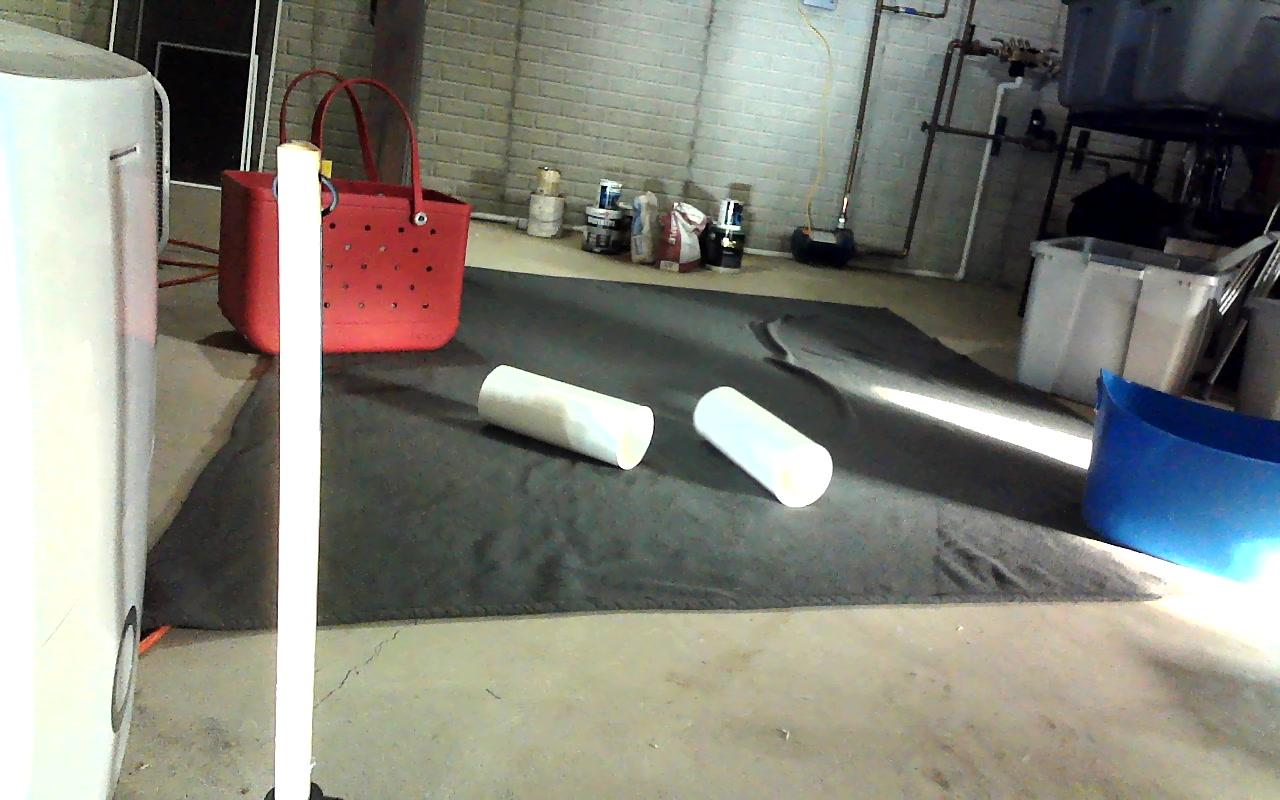coral: (479, 366, 653, 469), (693, 386, 832, 507)
